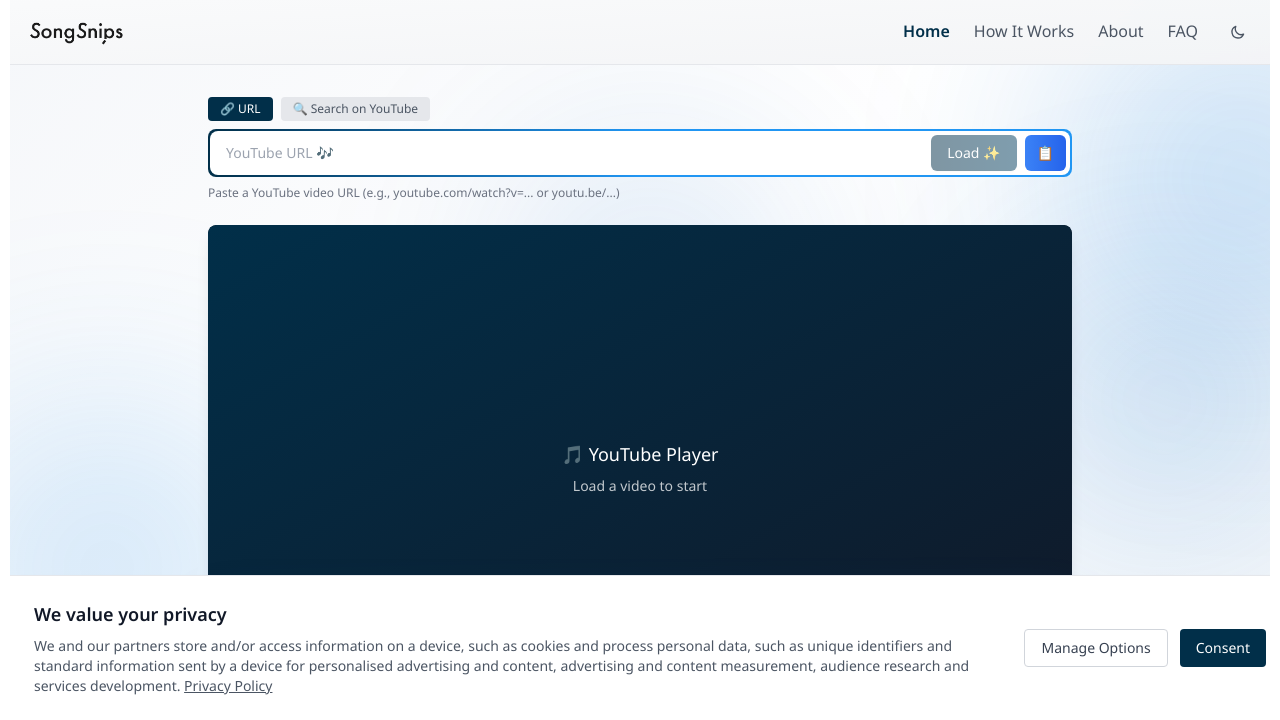
Test: SongSnips Critical User Flows › Video Loading Flow › should display error for invalid URL
This screenshot has width=1280, height=720.
# Enter invalid URL
Type "https://invalid-url.com" into the field with placeholder "YouTube URL 🎶". click: (569, 153)
box: [214,135,923,171]
Then press Enter
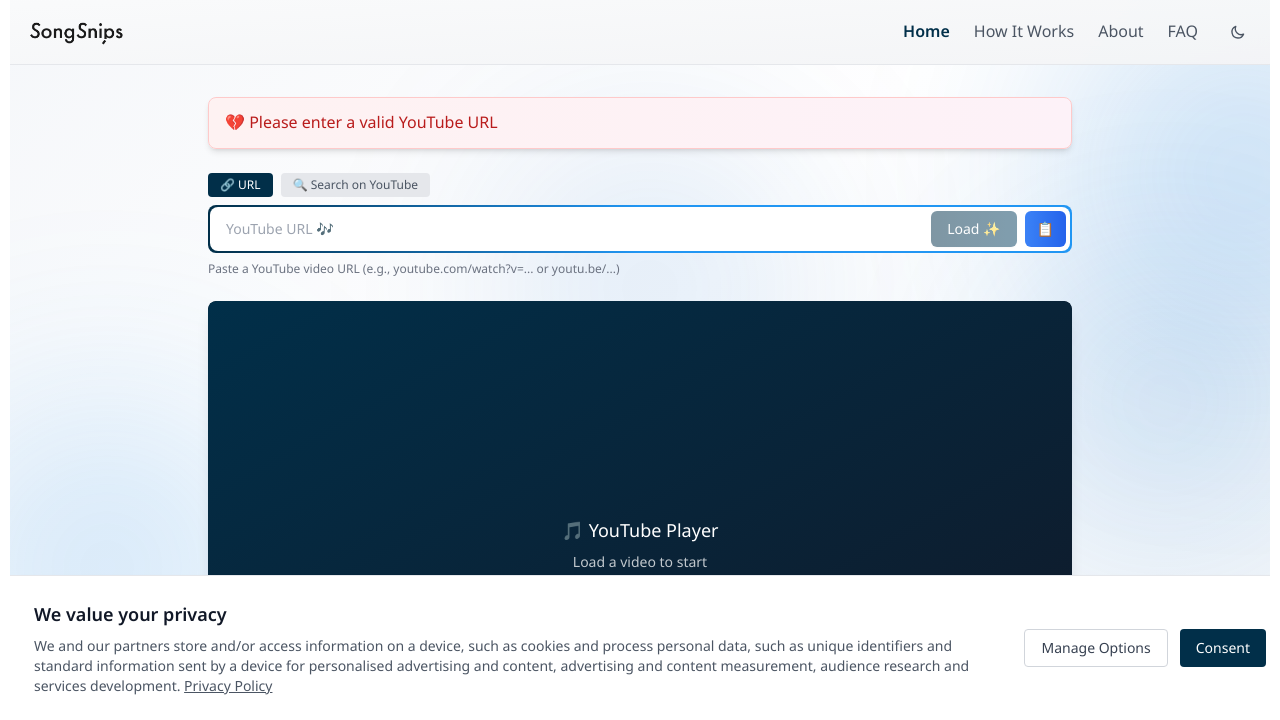
Expected: the text "💔 Please enter a valid YouTube URL" is shown, [208,97,1072,149]
